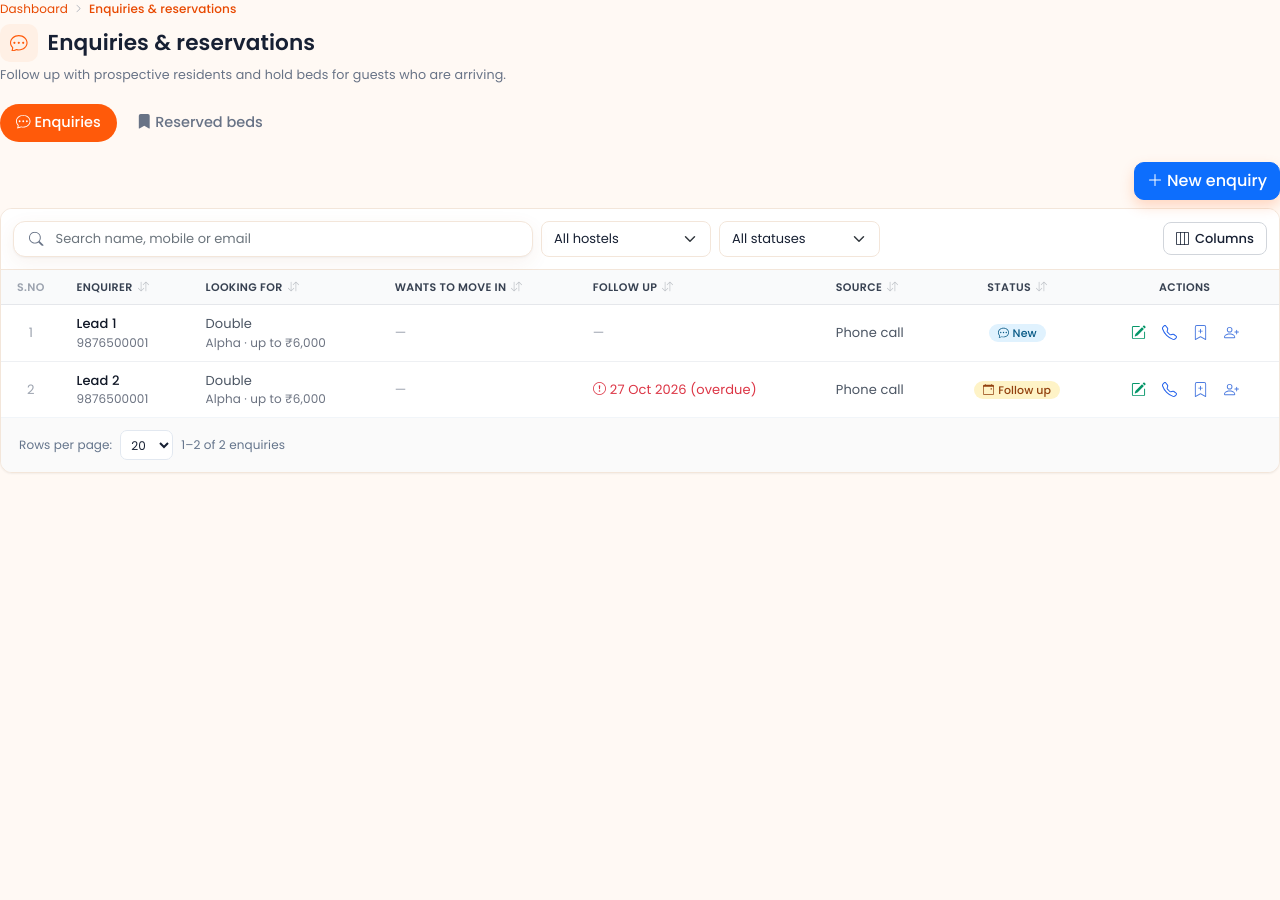
Test: adding and editing › an invalid mobile number is rejected
Click the button "New enquiry". click: (1207, 181)
box: [1134,162,1279,200]
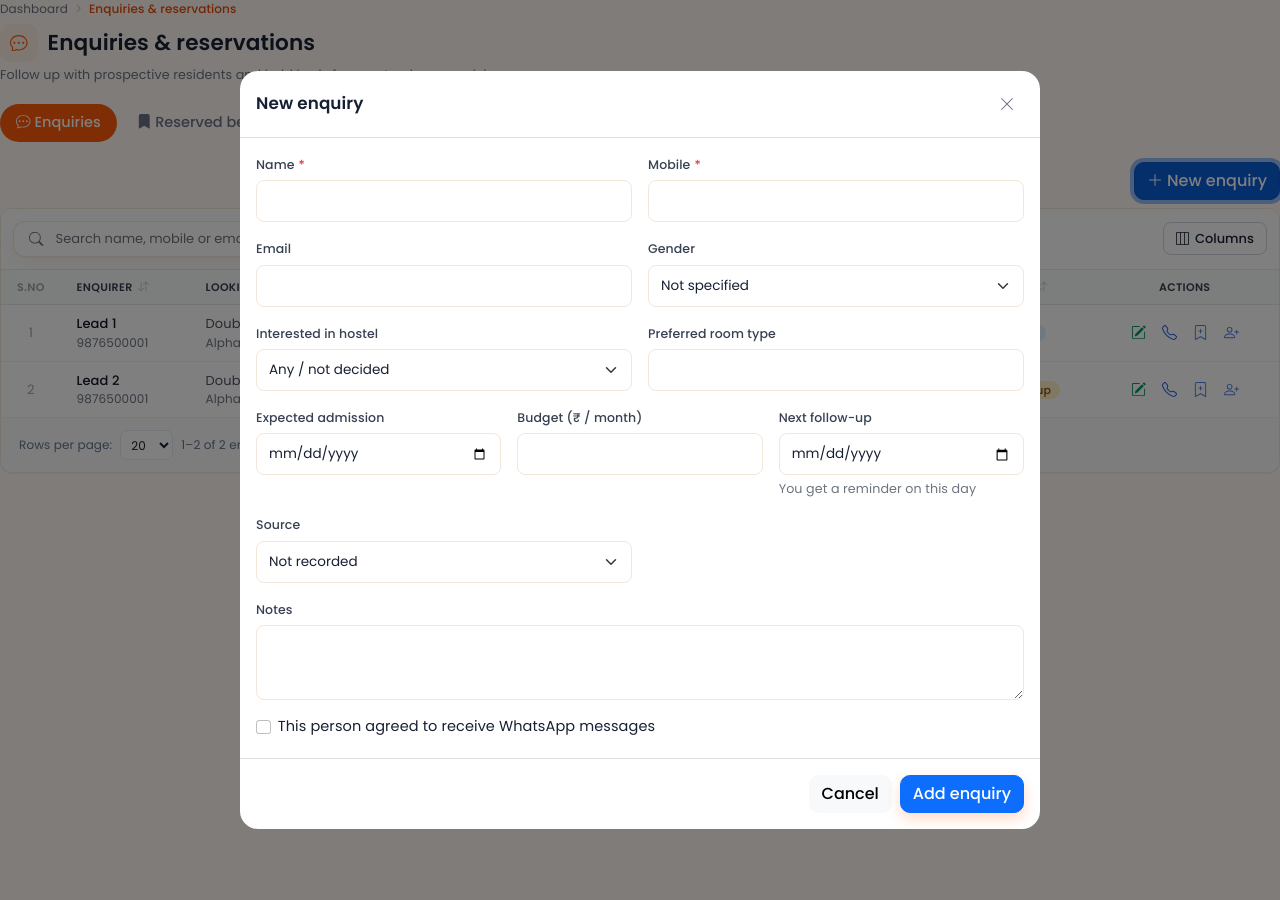
Type "X" into the field labelled "Name*". click: (444, 201)
box: [256,180,632,222]
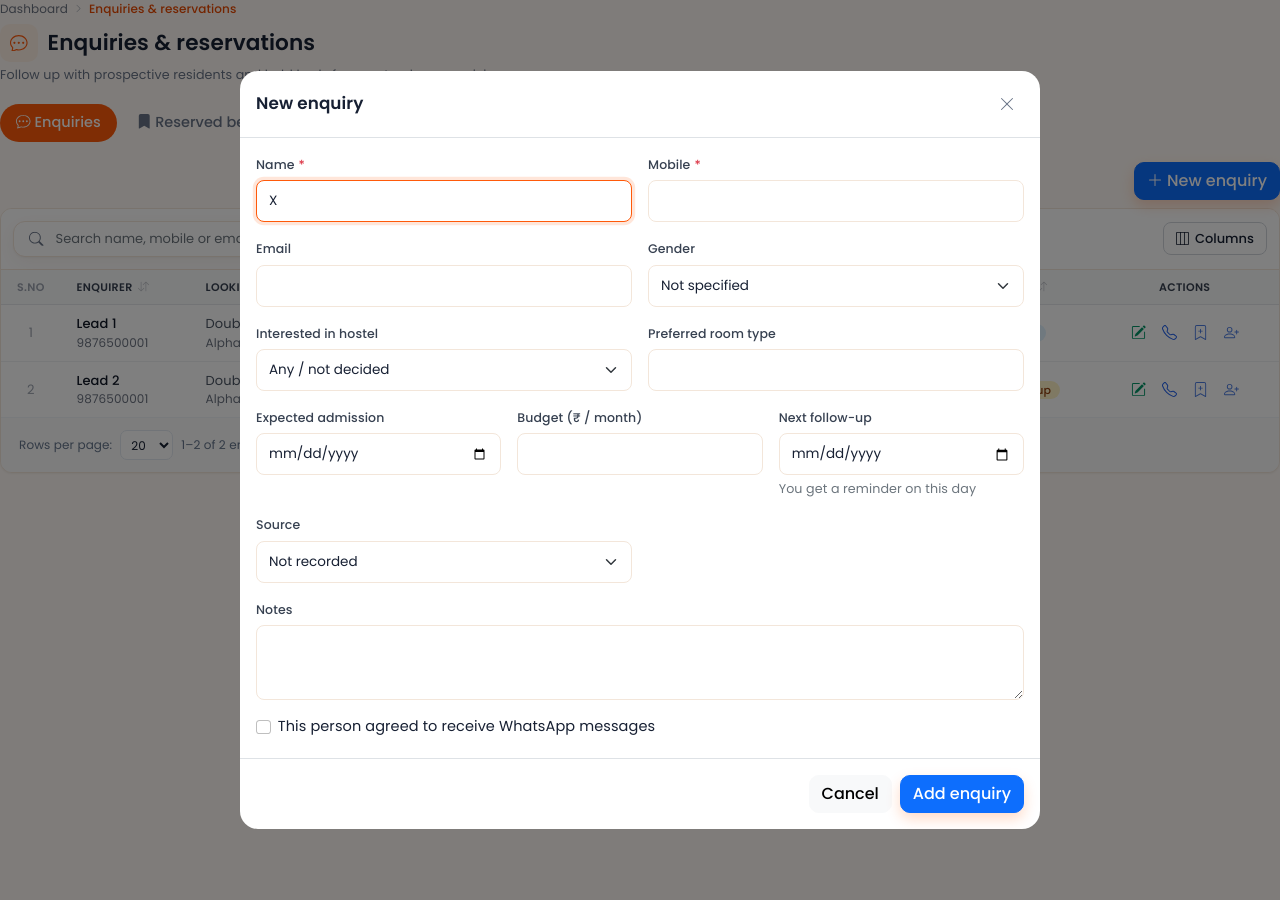
Type "12ab" into the field labelled "Mobile*". click: (836, 201)
box: [648,180,1024,222]
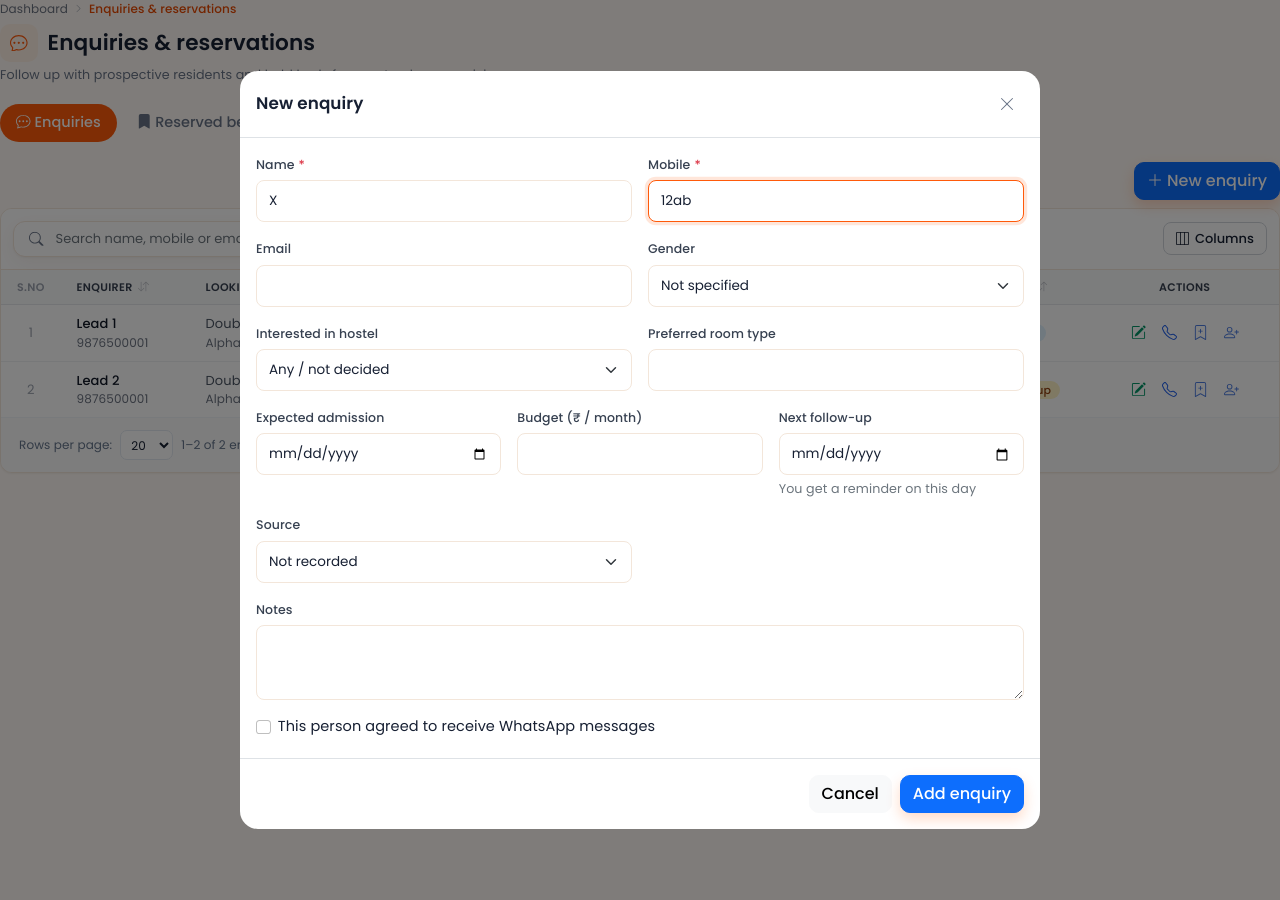
Click the button "Add enquiry". click: (962, 794)
box: [900,775,1024,813]
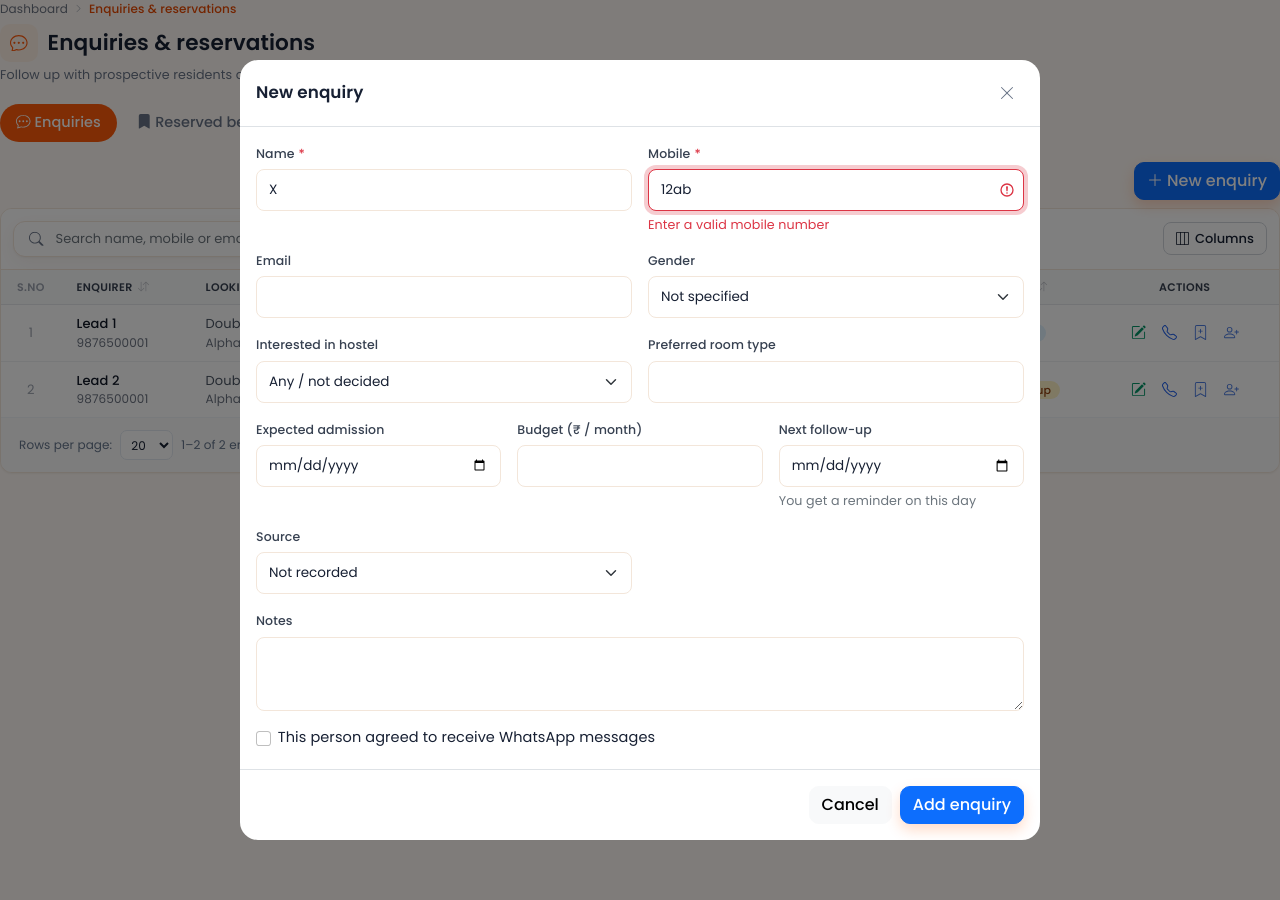
Check: the text "Enter a valid mobile number" is shown, box [648,216,829,233]
